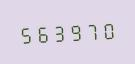five: (17, 22, 32, 45)
nine: (66, 20, 81, 43)
seven: (82, 19, 97, 42)
six: (33, 21, 48, 44)
three: (50, 20, 65, 44)
zero: (98, 18, 113, 41)
